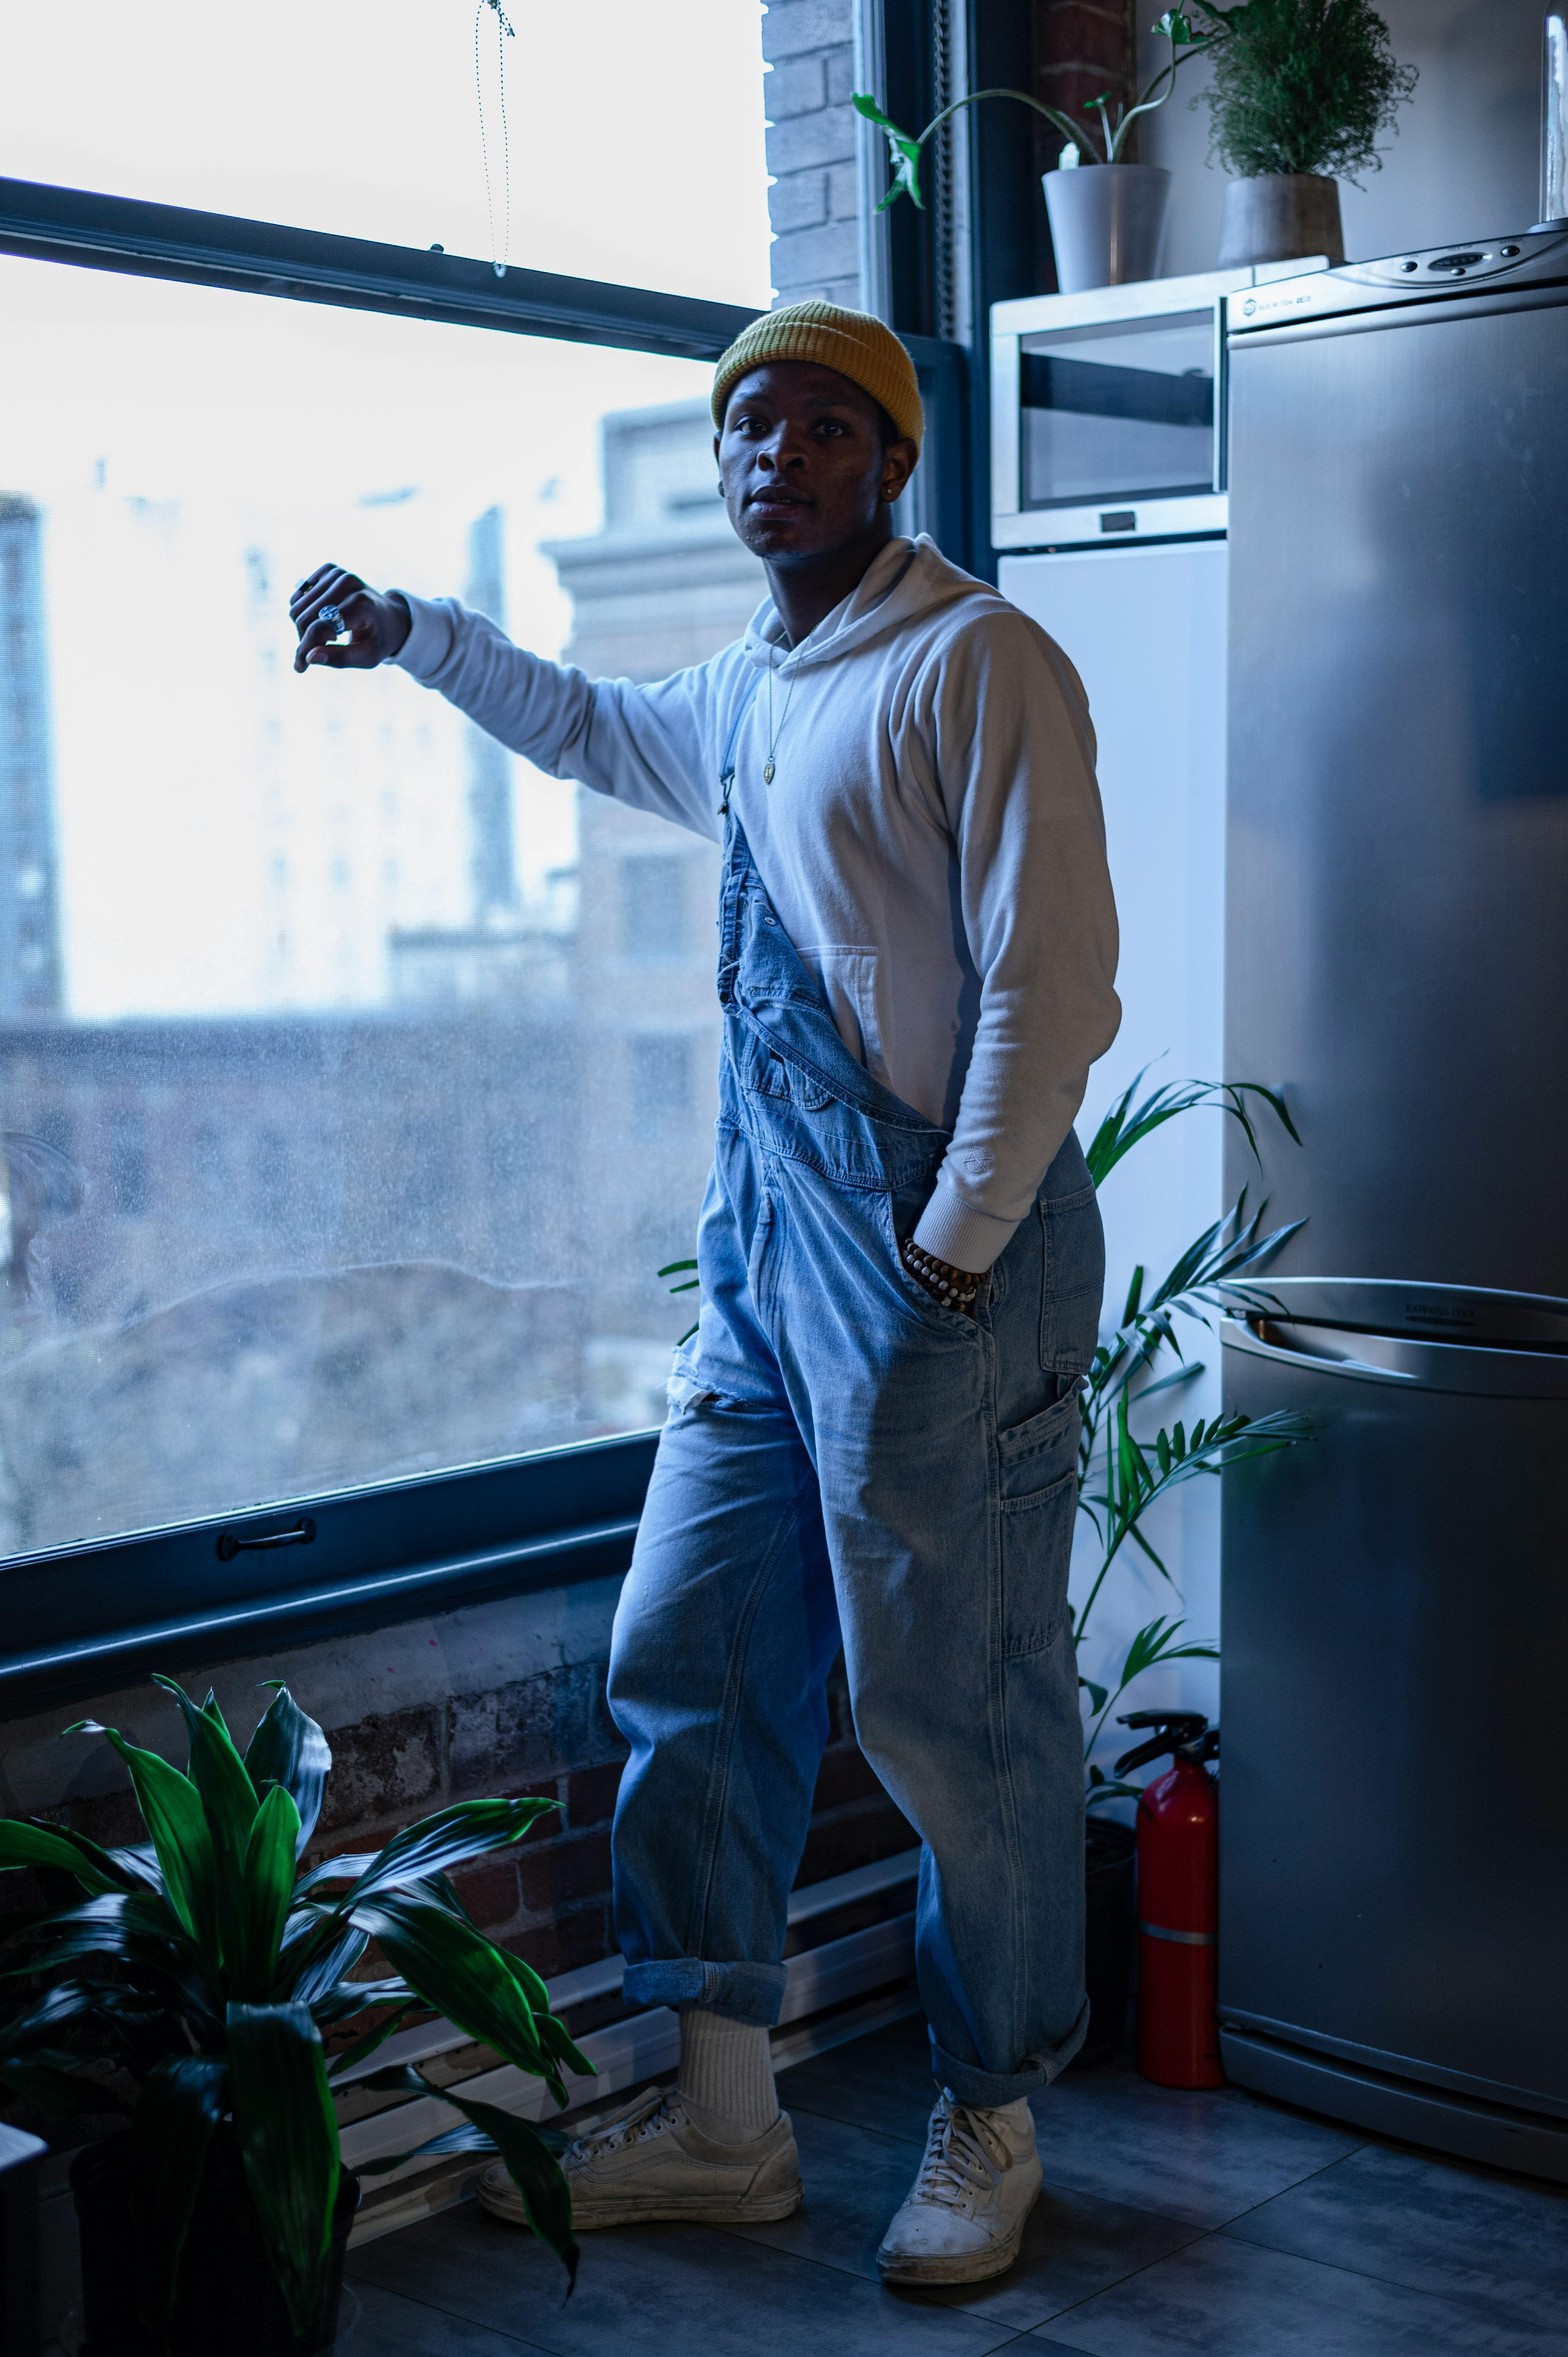extintor: (1099, 1692, 1241, 2107)
